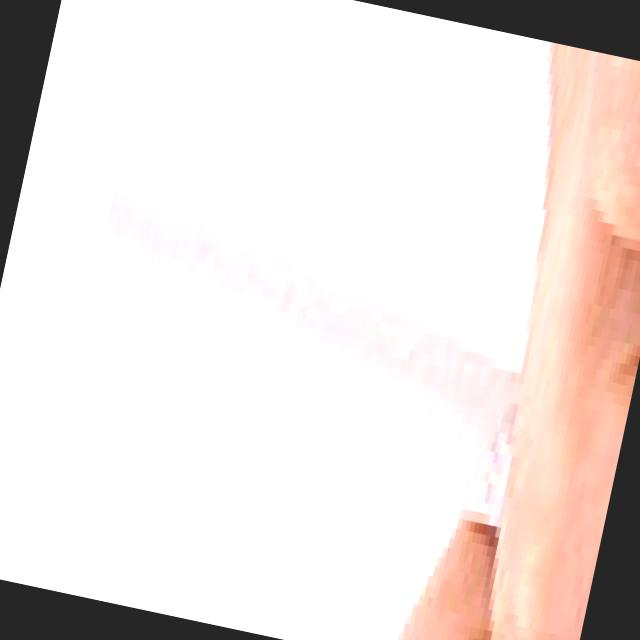smoke: (39, 115, 588, 540)
